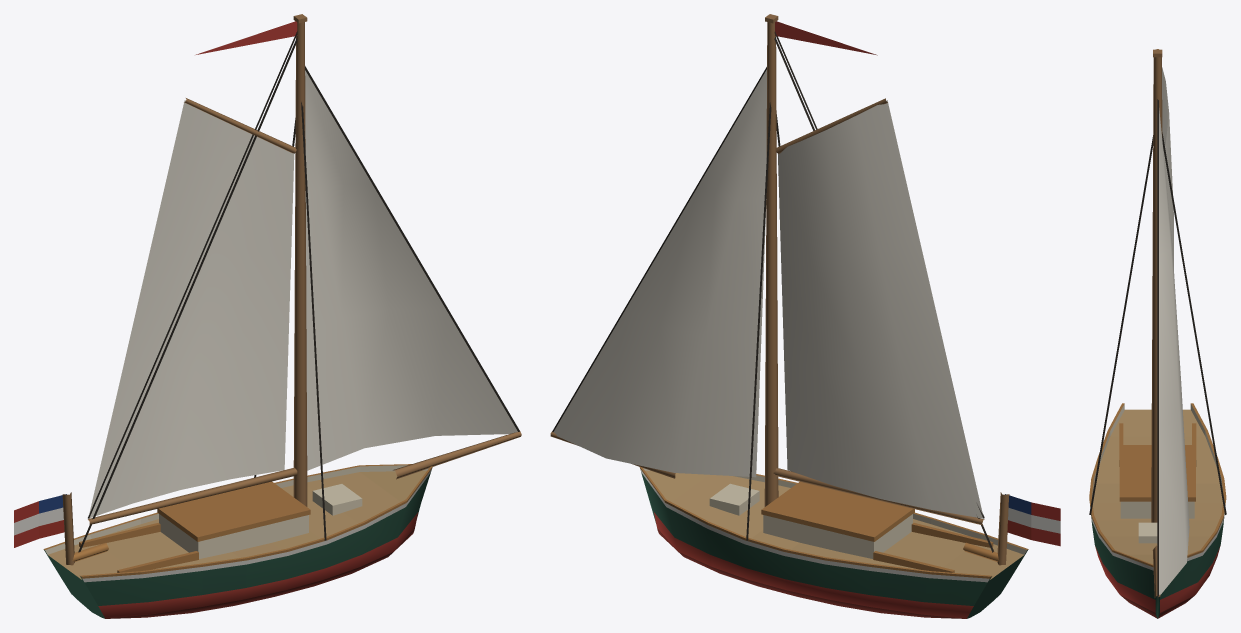
Rendered from hull_usd_sloop_boat.glb.
3 views of the same model, side by side, from view 1: azimuth 30°, elevation 25°; view 2: azimuth 150°, elevation 25°; view 3: azimuth 270°, elevation 25° (orthographic). The views are drawn at different scales.
Parts seen in each view (by area): view 1: sail_main, sail_jib, hull, deck, mast, rigging, boom_spar, flag, gaff; view 2: sail_main, sail_jib, hull, deck, mast, flag, rigging, boom_spar; view 3: hull, sail_jib, deck, mast, rigging, sail_main.
Boxes of the visible parts, bbox=[...] form: sail_main: bbox=[89, 100, 294, 518]; sail_jib: bbox=[305, 70, 517, 470]; hull: bbox=[43, 464, 432, 618]; deck: bbox=[72, 481, 362, 572]; mast: bbox=[62, 14, 521, 565]; rigging: bbox=[78, 37, 519, 552]; boom_spar: bbox=[88, 31, 297, 524]; flag: bbox=[14, 21, 297, 547]; gaff: bbox=[184, 98, 296, 153]; sail_main: bbox=[777, 100, 983, 518]; sail_jib: bbox=[553, 69, 766, 477]; hull: bbox=[639, 466, 1028, 618]; deck: bbox=[709, 482, 999, 572]; mast: bbox=[550, 14, 1009, 565]; flag: bbox=[775, 21, 1060, 546]; rigging: bbox=[552, 37, 993, 552]; boom_spar: bbox=[773, 32, 984, 525]; hull: bbox=[1089, 403, 1226, 618]; sail_jib: bbox=[1159, 108, 1189, 594]; deck: bbox=[1119, 423, 1196, 543]; mast: bbox=[1151, 49, 1162, 597]; rigging: bbox=[1089, 99, 1226, 598]; sail_main: bbox=[1162, 67, 1173, 268].
Bounding box in the file's own units: 10.32 × 10.91 × 2.56.
